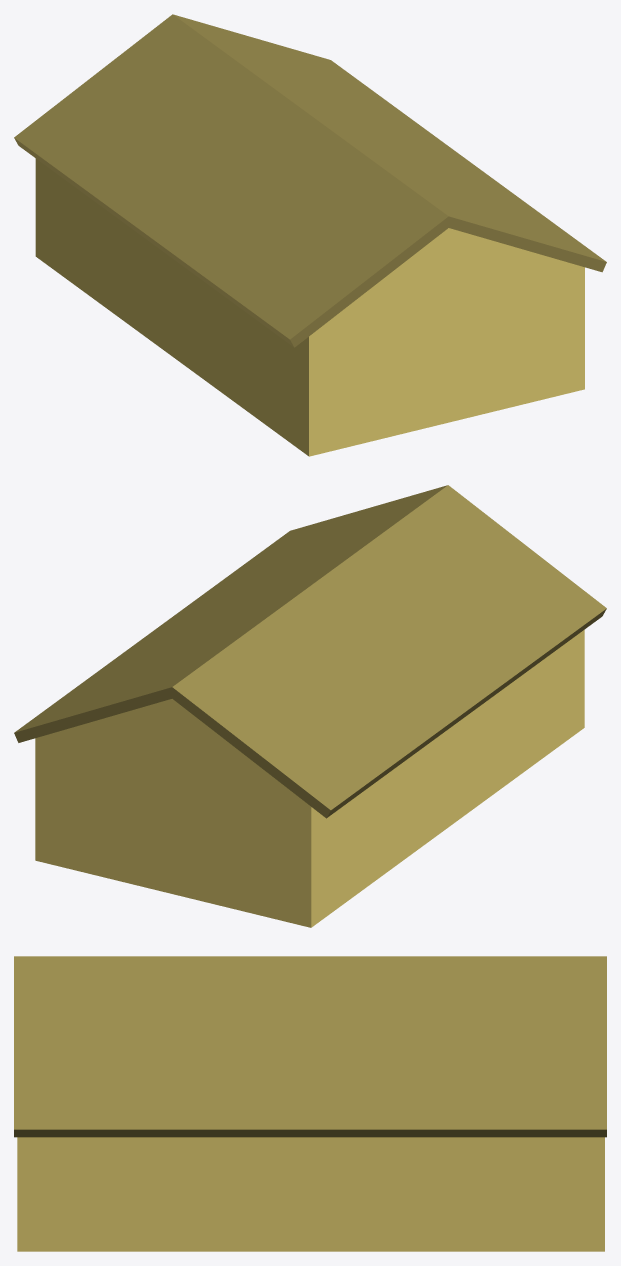
The model's file is result.glb.
3 views of the same model, one above another, from view 1: azimuth 30°, elevation 25°; view 2: azimuth 150°, elevation 25°; view 3: azimuth 270°, elevation 25° (orthographic). The views are drawn at different scales.
Parts seen in each view (by area): view 1: 7f33974f-1d6e-4e6f-95b7-464dd6858d3d__undefined (×2), ddebe298-f5b8-4203-803a-e023e1dd4ab4__undefined; view 2: 7f33974f-1d6e-4e6f-95b7-464dd6858d3d__undefined (×2), ddebe298-f5b8-4203-803a-e023e1dd4ab4__undefined; view 3: 7f33974f-1d6e-4e6f-95b7-464dd6858d3d__undefined, ddebe298-f5b8-4203-803a-e023e1dd4ab4__undefined.
Part boxes in pixels (left/top/right/bottom): 7f33974f-1d6e-4e6f-95b7-464dd6858d3d__undefined (×2): left=14, top=14, right=606, bottom=347; ddebe298-f5b8-4203-803a-e023e1dd4ab4__undefined: left=35, top=158, right=584, bottom=456; 7f33974f-1d6e-4e6f-95b7-464dd6858d3d__undefined (×2): left=14, top=485, right=606, bottom=818; ddebe298-f5b8-4203-803a-e023e1dd4ab4__undefined: left=35, top=630, right=584, bottom=927; 7f33974f-1d6e-4e6f-95b7-464dd6858d3d__undefined: left=14, top=956, right=606, bottom=1137; ddebe298-f5b8-4203-803a-e023e1dd4ab4__undefined: left=17, top=1137, right=604, bottom=1251.
Size of the model in its own units: 803 by 503 by 1211.
